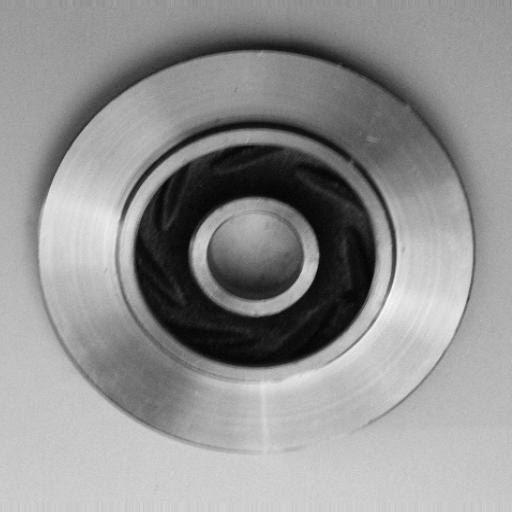unpolished_casting: (32, 48, 477, 457)
